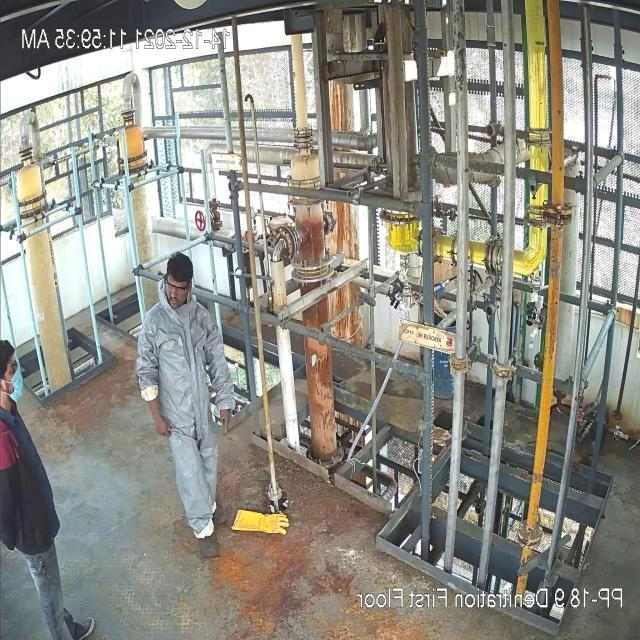face_mask: (2, 360, 28, 402)
face_nomask: (163, 282, 187, 307)
glasses: (164, 280, 187, 296)
hand_noglove: (154, 414, 174, 440), (218, 406, 234, 434)
head_nohelmet: (166, 251, 196, 283)
person: (134, 252, 236, 552), (0, 336, 98, 640), (56, 607, 101, 640), (191, 520, 223, 558)
